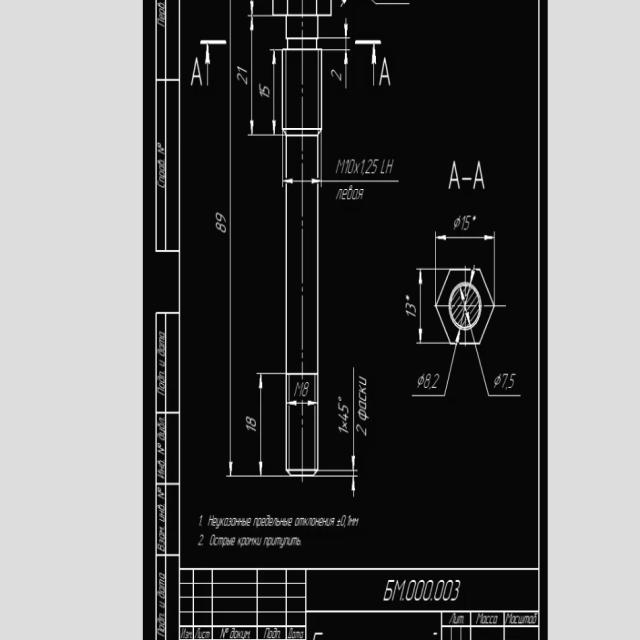marking_line: (228, 1, 234, 478), (436, 232, 494, 247), (349, 369, 357, 470), (248, 18, 255, 132), (257, 375, 264, 475), (201, 44, 215, 88), (271, 49, 278, 137), (287, 174, 318, 187), (287, 398, 318, 410), (371, 42, 379, 87), (344, 53, 351, 90), (350, 479, 358, 501), (343, 17, 350, 36)
numeric: (435, 576, 463, 604), (335, 396, 350, 438), (360, 158, 381, 176), (423, 372, 440, 393), (235, 63, 249, 88), (212, 210, 226, 233), (502, 371, 516, 393), (257, 79, 271, 100), (403, 301, 418, 320), (244, 415, 257, 432), (461, 215, 473, 233), (330, 68, 344, 83), (347, 157, 356, 176)
special_symbol: (413, 371, 425, 391), (494, 371, 503, 393), (452, 216, 461, 229)
